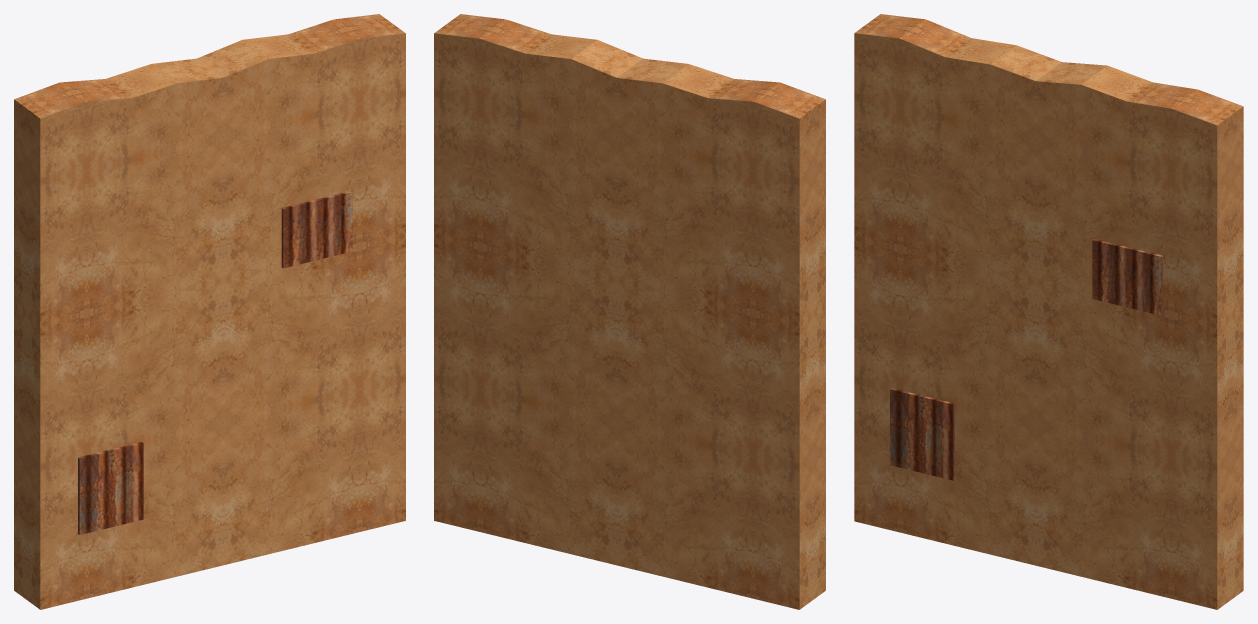
The model's file is wall_adobe_r2.glb.
The picture shows the model from 3 angles, left to right: view 1: azimuth 30°, elevation 25°; view 2: azimuth 150°, elevation 25°; view 3: azimuth 330°, elevation 25°; orthographic projection.
Bounding box in the file's own units: 2 × 2.6 × 0.266.
Materials: 2 (2 with a texture image).
